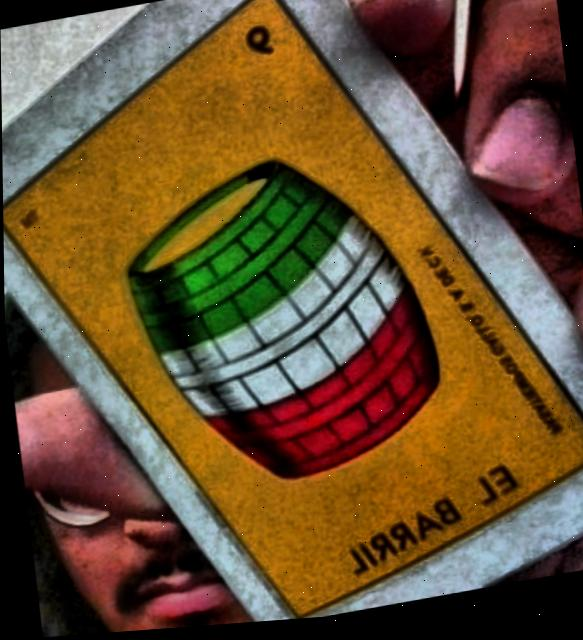El Barril: (2, 0, 583, 622)
